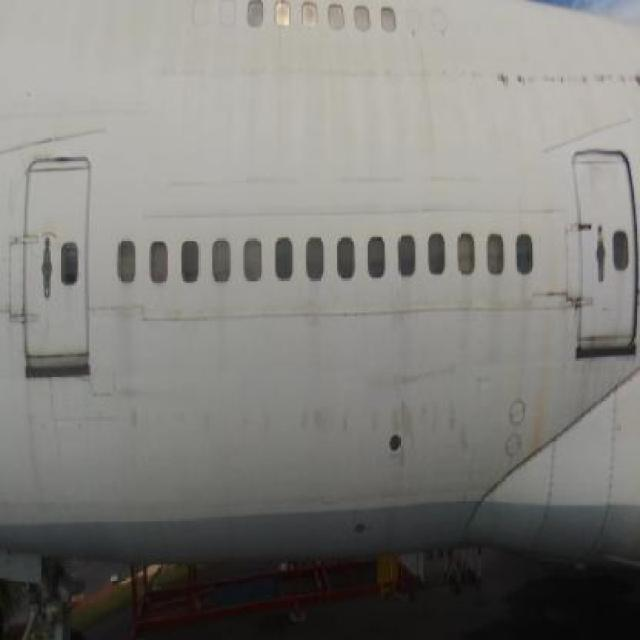Missing-Rivet: (2, 226, 35, 337)
Rust: (537, 249, 558, 454)
Scartch: (483, 44, 640, 104), (544, 116, 634, 164), (0, 124, 108, 156), (531, 284, 603, 324)
